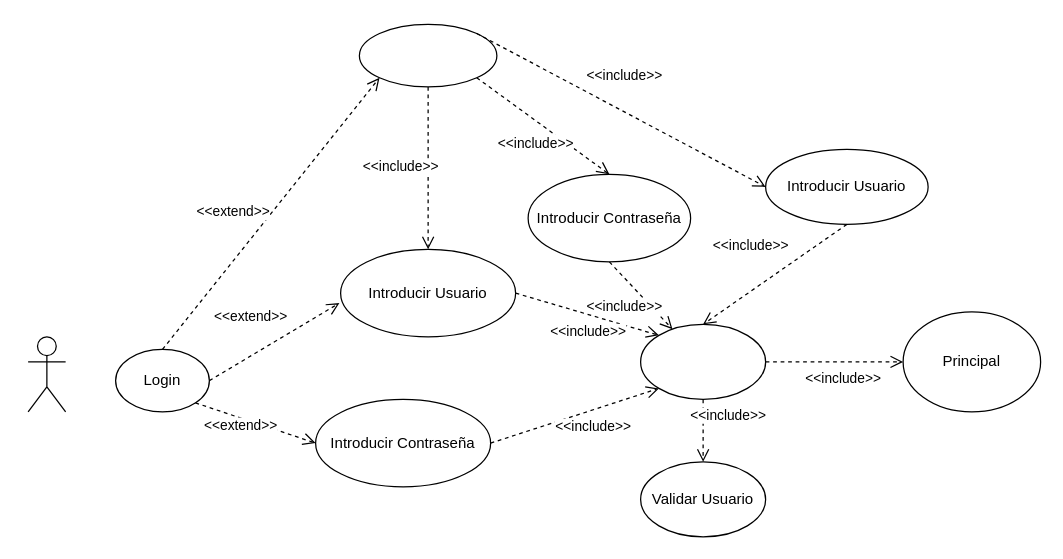
Image size: 1063x559. Some labels were removed from this diagram. The centre of each missing label's shape, as x and y in pixels:
"Entrar" belongs at pixel 702 361.
"Registrarse" belongs at pixel 427 55.
"Usuario" belongs at pixel 46 374.
